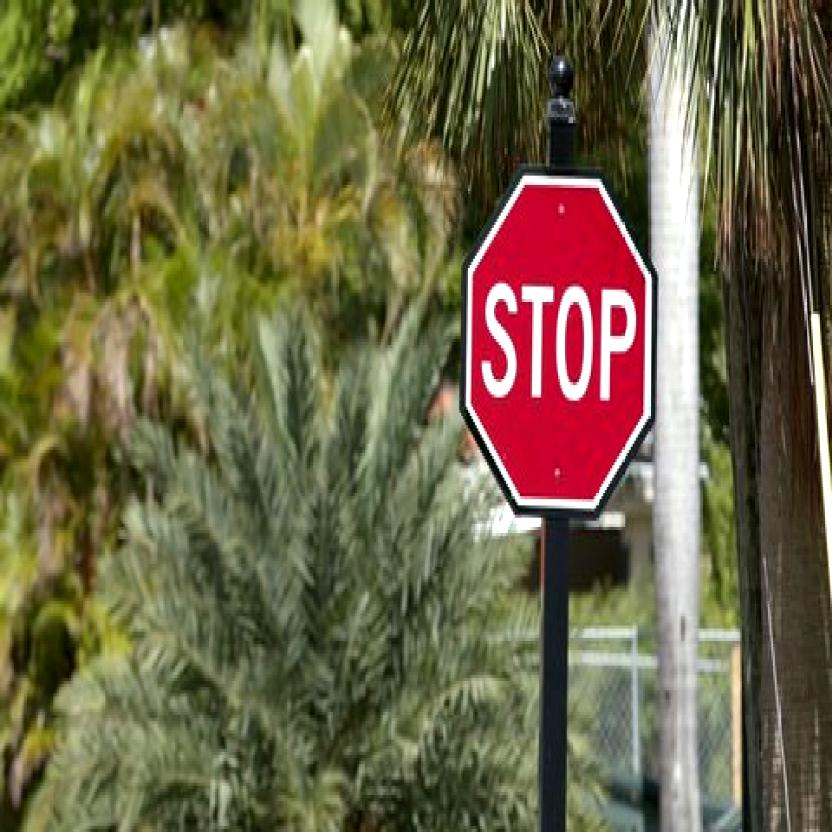Pole: (540, 517, 569, 830)
Sign: (462, 171, 658, 515)
